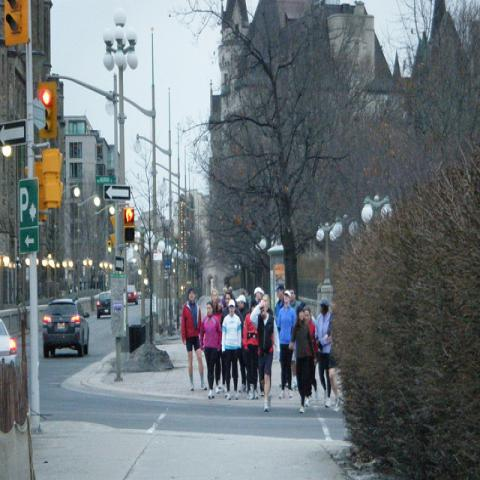car: (43, 296, 91, 359), (1, 316, 18, 371), (96, 292, 111, 318), (128, 286, 138, 306), (144, 287, 151, 299), (137, 288, 142, 299)
